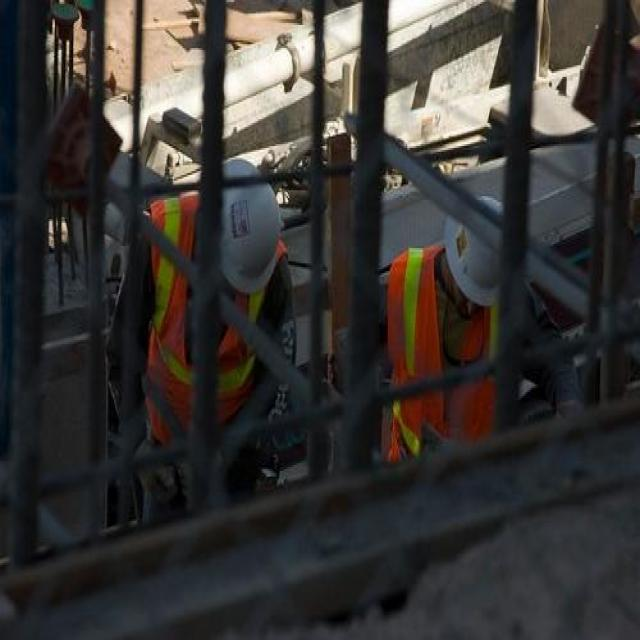Reflective-Jacket: (127, 163, 298, 469), (367, 238, 512, 477)
Safety-Helmet: (210, 155, 286, 297), (434, 200, 511, 313)
